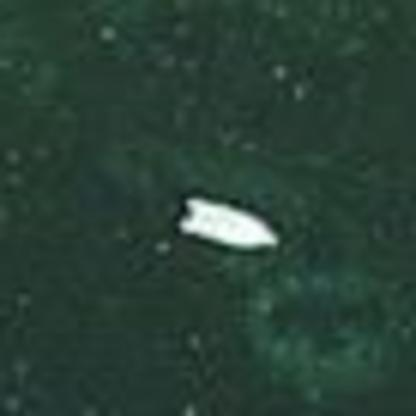ship: (167, 184, 300, 262)
